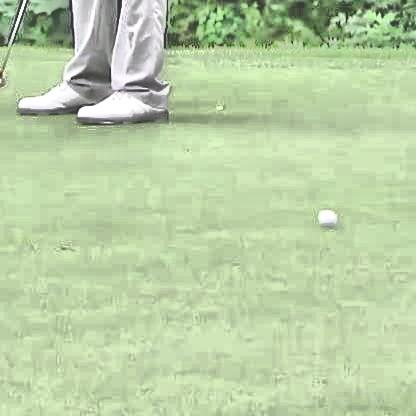golfball: (314, 207, 336, 227)
